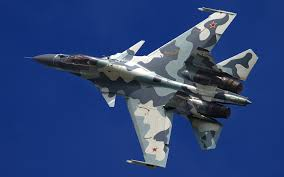maybay_muctieu: (23, 8, 258, 170)
